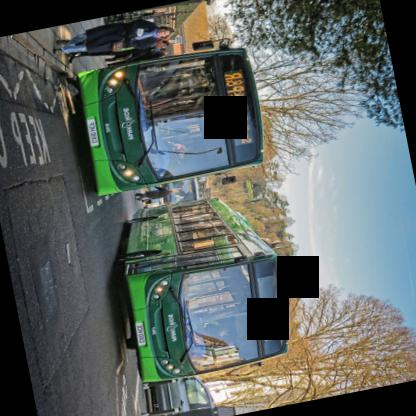handbag: (109, 37, 125, 52)
